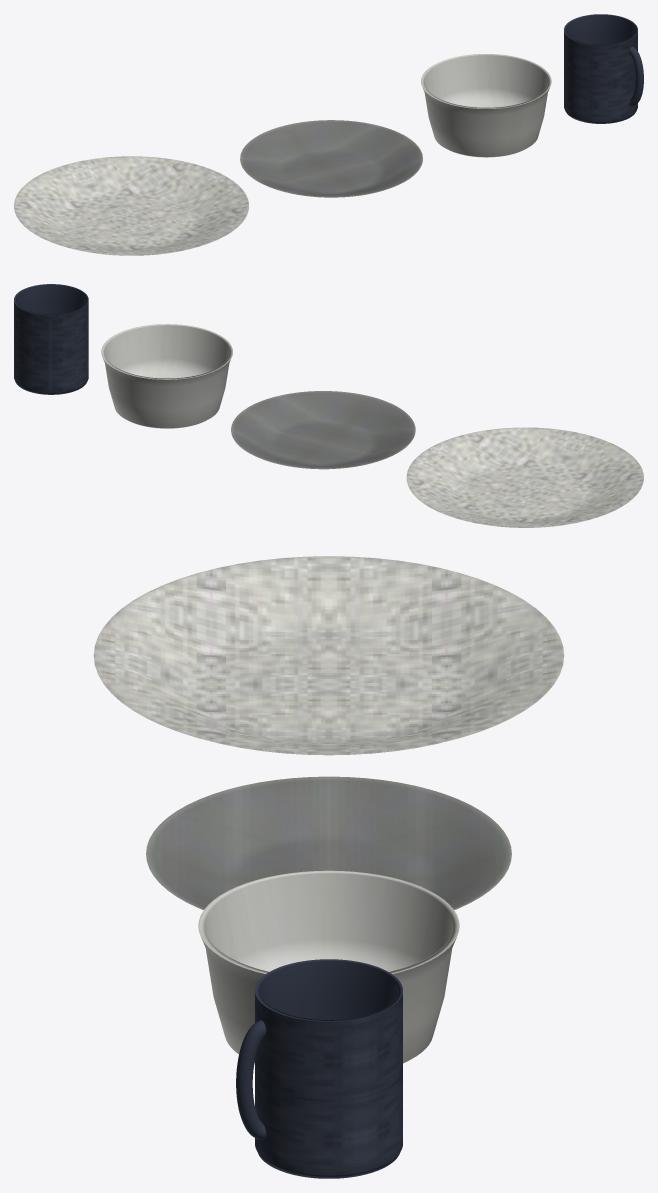
3 views of the same model, one above another, from view 1: azimuth 30°, elevation 25°; view 2: azimuth 150°, elevation 25°; view 3: azimuth 270°, elevation 25° (orthographic). The views are drawn at different scales.
Bounding box in the file's own units: 0.7995 × 0.1 × 0.27.
9 materials, 7 textured.
